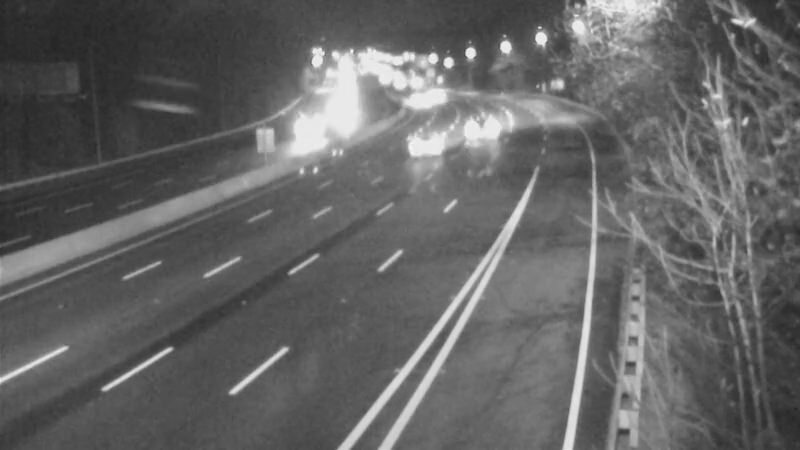vehicle: (415, 71, 465, 121), (390, 80, 440, 130), (440, 110, 490, 160), (405, 117, 455, 167), (283, 105, 333, 155)
